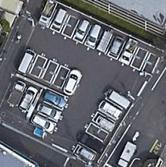parkingspot: (35, 0, 163, 81), (69, 87, 133, 165), (16, 47, 83, 97), (27, 87, 69, 136), (1, 73, 45, 119)
